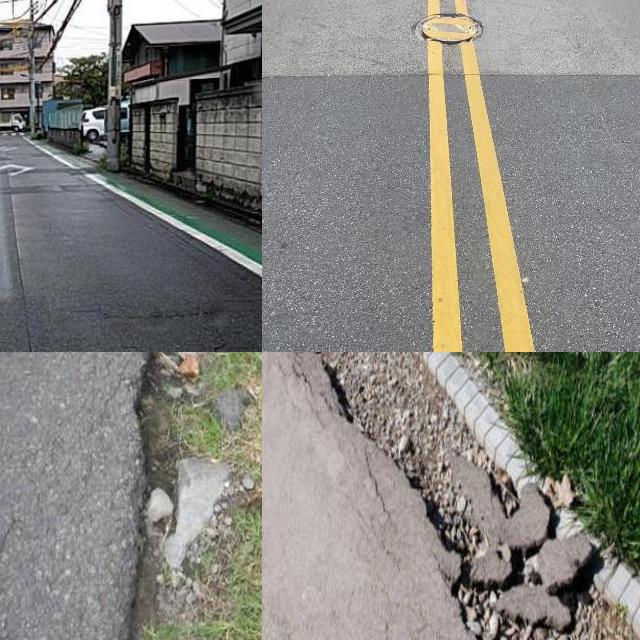Pinggir: (262, 352, 640, 640), (70, 352, 230, 640)
Sambungan: (262, 76, 640, 352), (0, 183, 262, 352)
